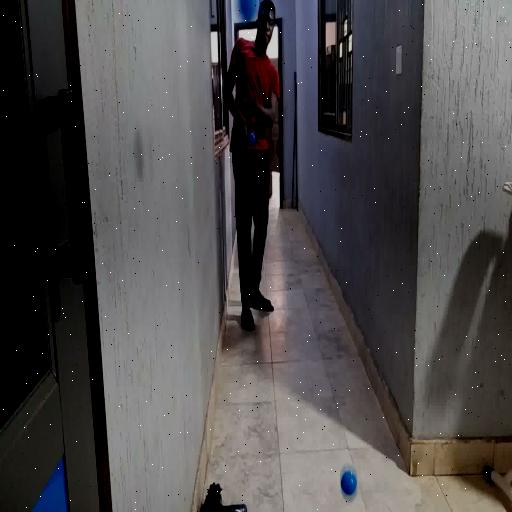plastic-ball: (238, 0, 260, 24)
